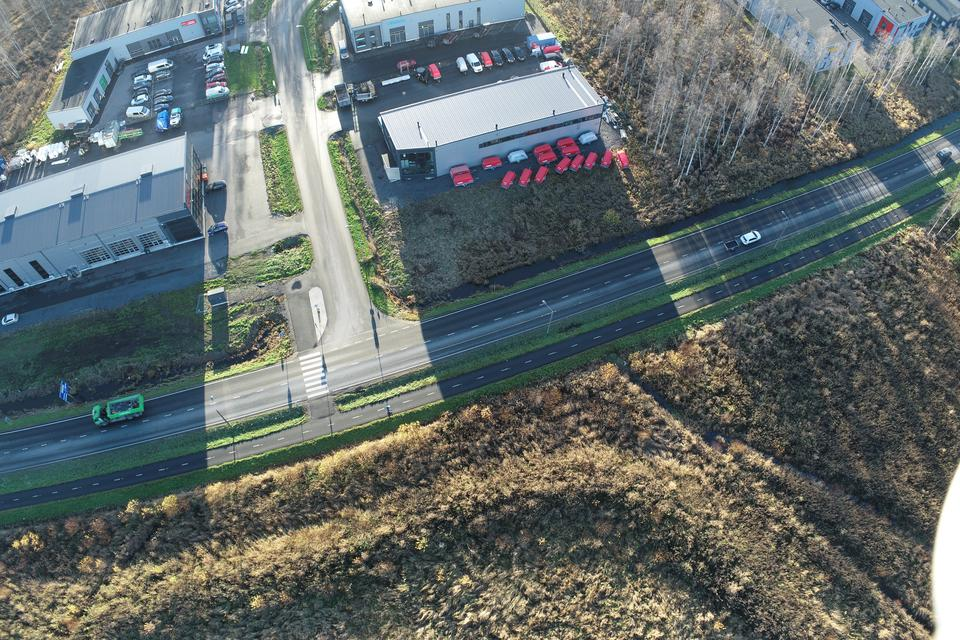intersection: (268, 261, 427, 462)
